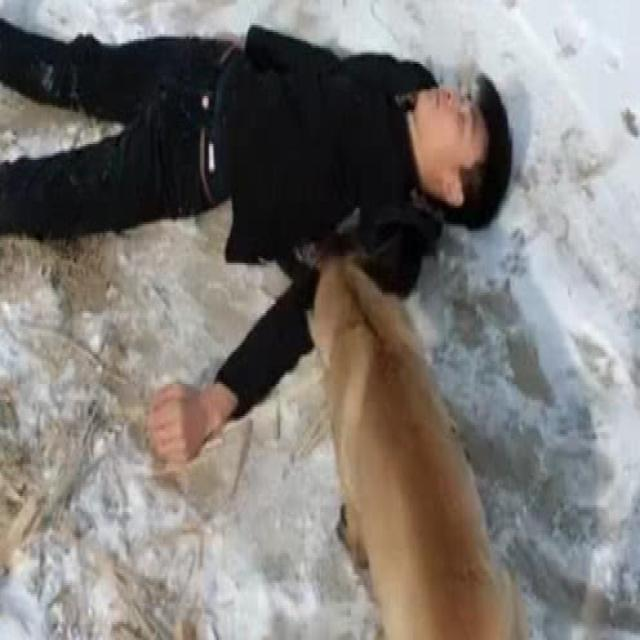down: (0, 11, 514, 466)
